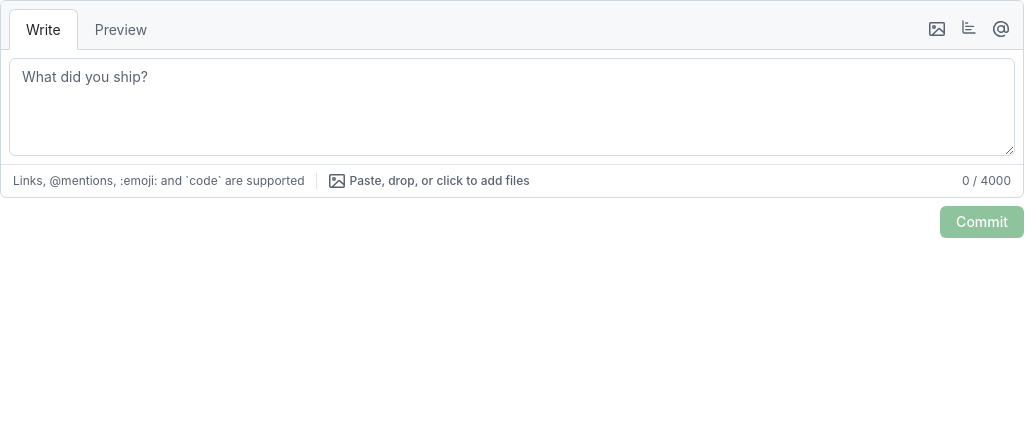
Test: InlineComposer, polls › adds a poll from its toolbar, asking a question instead of what was shipped, without images
Click the button named "Add poll" at (969, 27), box x1=955 y1=13 x2=983 y2=41
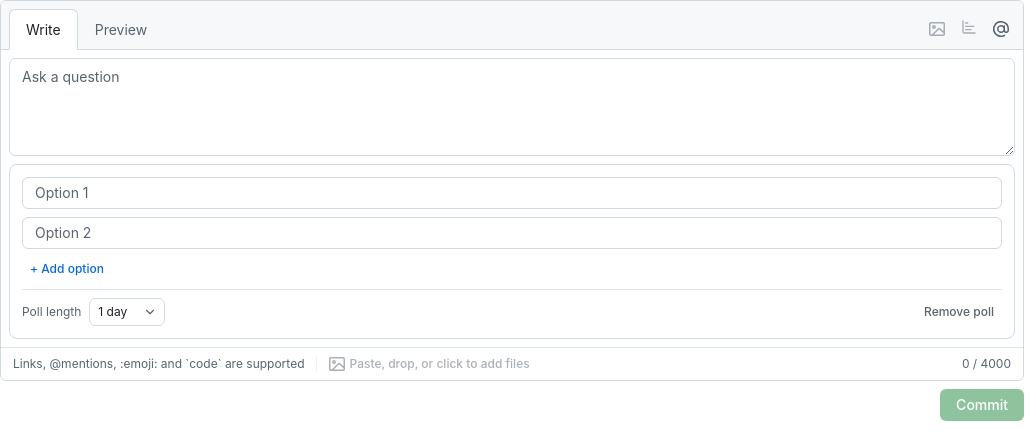
Click the button "Remove poll" at (959, 312), box x1=916 y1=300 x2=1002 y2=324
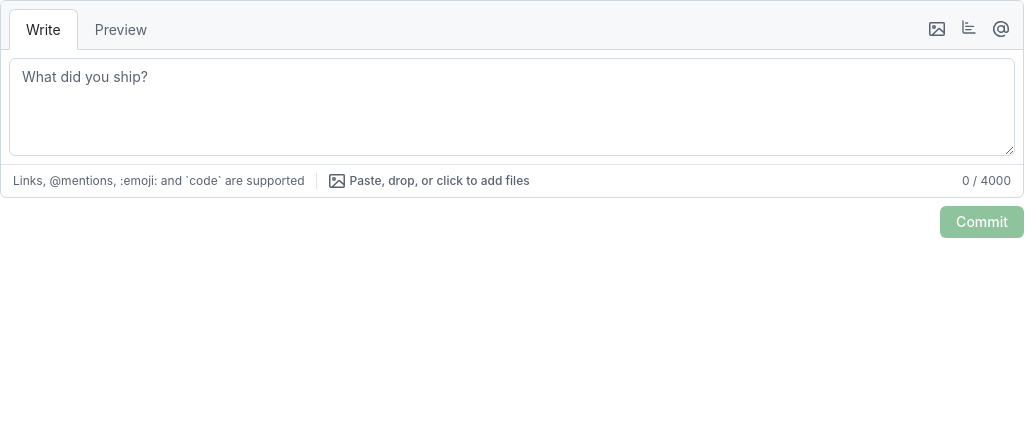
Check: the button named "Attach images" is enabled, box x1=923 y1=9 x2=951 y2=45
